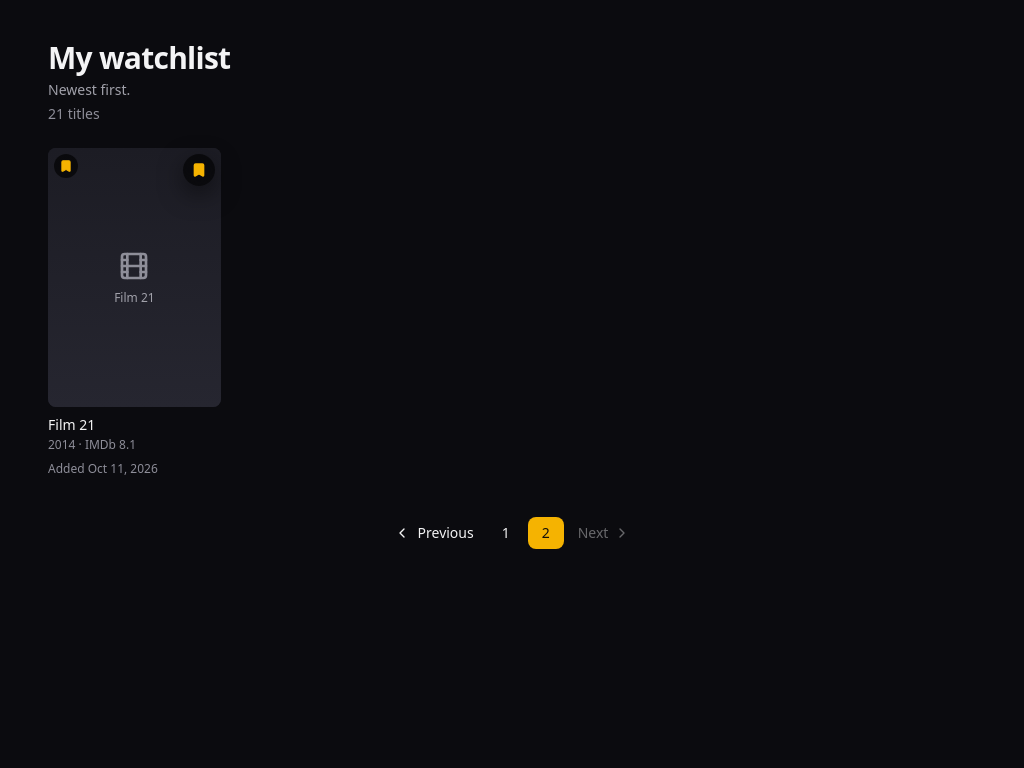
it: WatchlistPage › removing the only item on the last page moves back a page
Expected: the text "21 titles" is shown, [48,104,100,123]
Expected: the text "Added Oct 11, 2026" is shown, [48,460,158,477]
Click the button named "Remove from watchlist: Film 21": click(199, 170) [183,154,215,186]
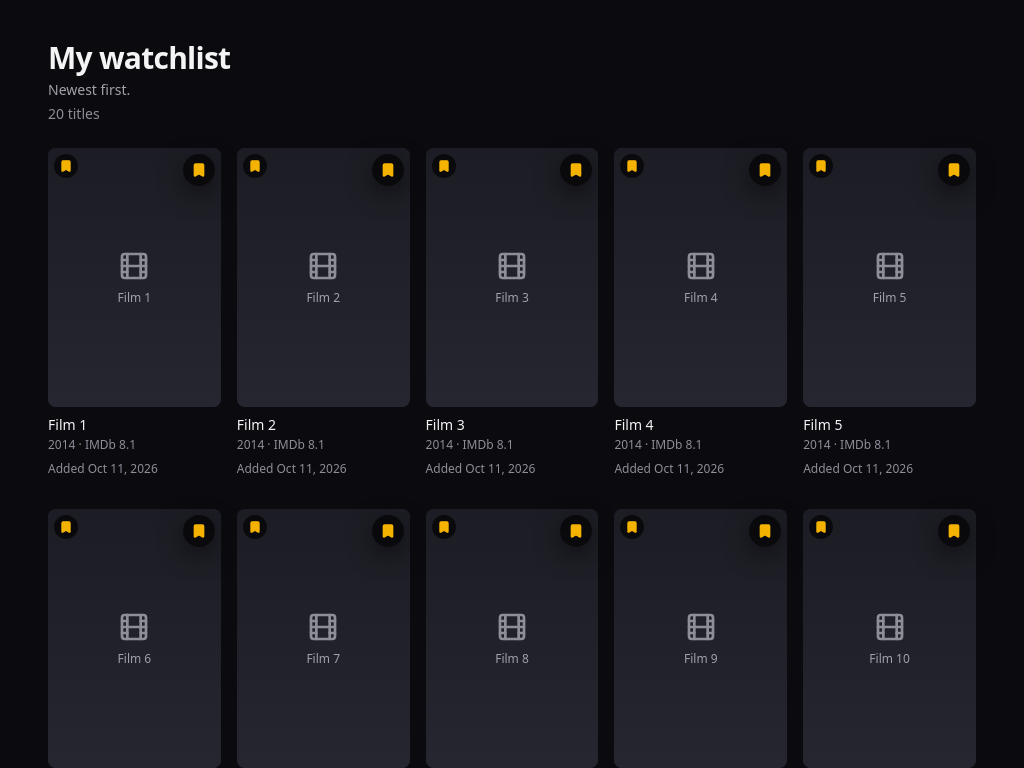
Now the text "20 titles" is shown, box [48,104,100,123]
Now the number of links "Film 1 Film 1 2014 · IMDb 8.1" is 20
